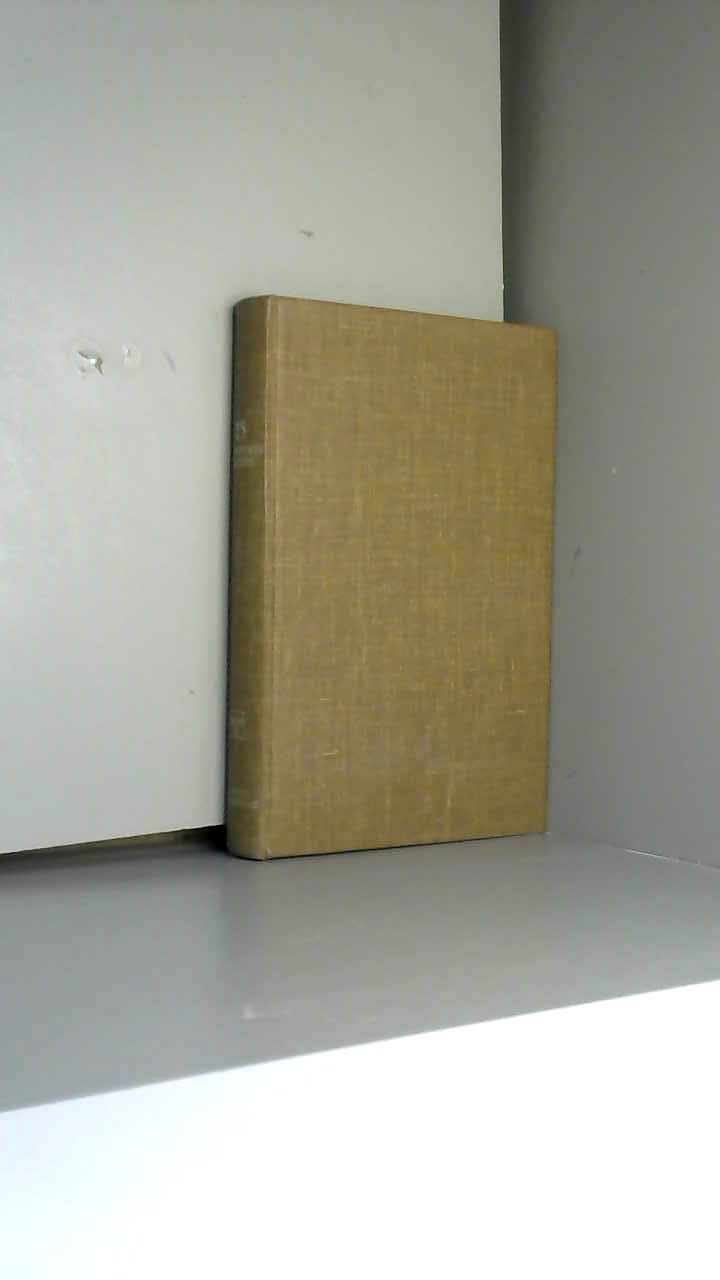book: (196, 262, 594, 903)
